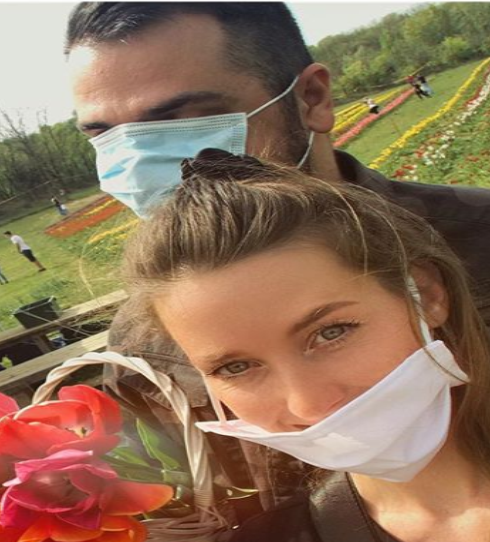mask_weared_incorrect: (149, 190, 462, 482), (54, 2, 334, 224)
